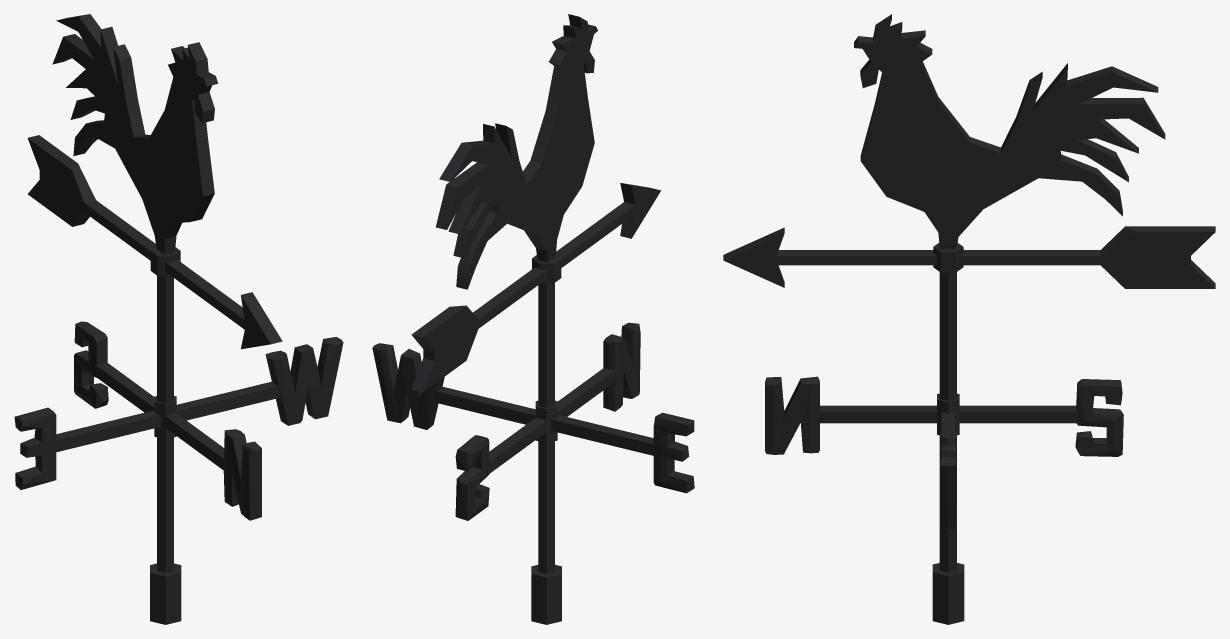
The model's file is SM_Prop_Weathervane_01.glb.
3 renders of one model, left to right at view 1: azimuth 30°, elevation 25°; view 2: azimuth 150°, elevation 25°; view 3: azimuth 270°, elevation 25°, orthographic. The views are drawn at different scales.
Parts seen in each view (by area): view 1: SM_Prop_Weathervane_Arrow_01, SM_Prop_Weathervane_01; view 2: SM_Prop_Weathervane_Arrow_01, SM_Prop_Weathervane_01; view 3: SM_Prop_Weathervane_Arrow_01, SM_Prop_Weathervane_01.
Part boxes in pixels (x1,y1,x2,y2): SM_Prop_Weathervane_Arrow_01: (27,14,282,349); SM_Prop_Weathervane_01: (14,276,343,624); SM_Prop_Weathervane_Arrow_01: (411,14,660,392); SM_Prop_Weathervane_01: (372,283,694,624); SM_Prop_Weathervane_Arrow_01: (723,14,1215,288); SM_Prop_Weathervane_01: (765,272,1123,624).
Size of the model in its own units: 1.23 by 2.17 by 1.61.
2 materials, 2 textured.
